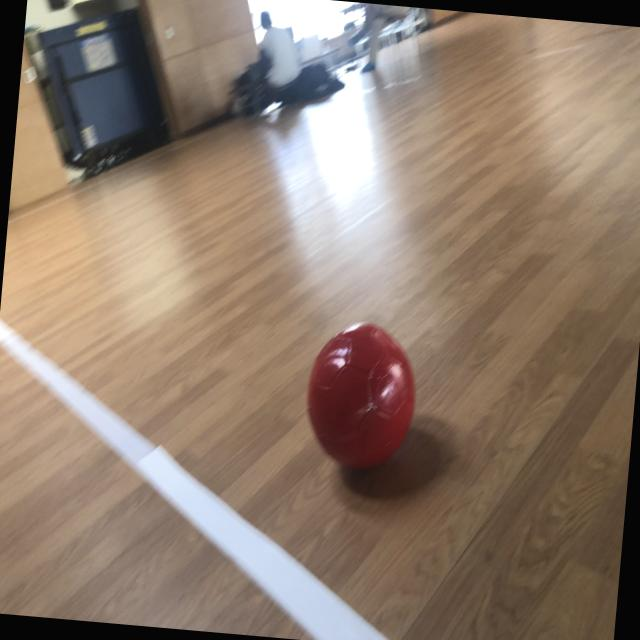red_ball: (302, 318, 419, 470)
